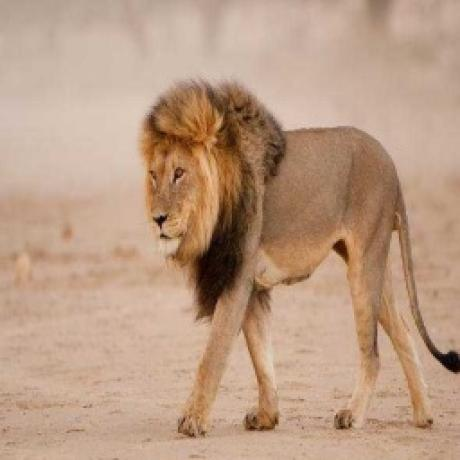Lion: (138, 72, 460, 437)
